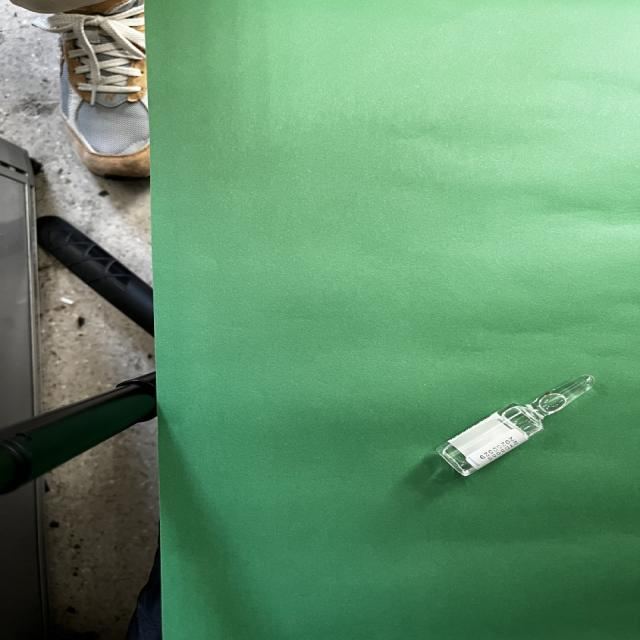Ampoules: (437, 374, 596, 477)
